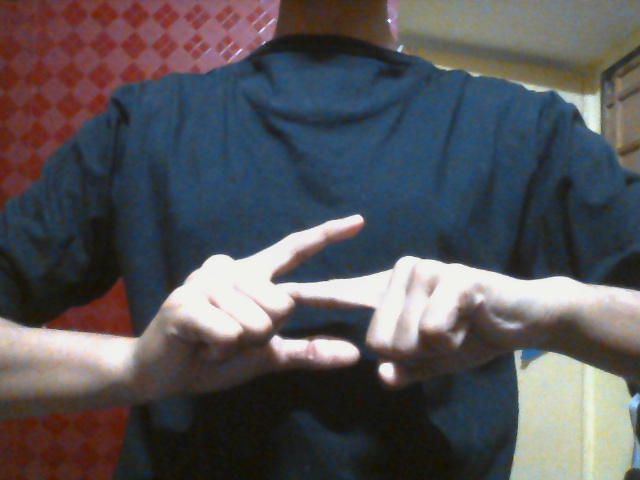E: (139, 214, 509, 403)
